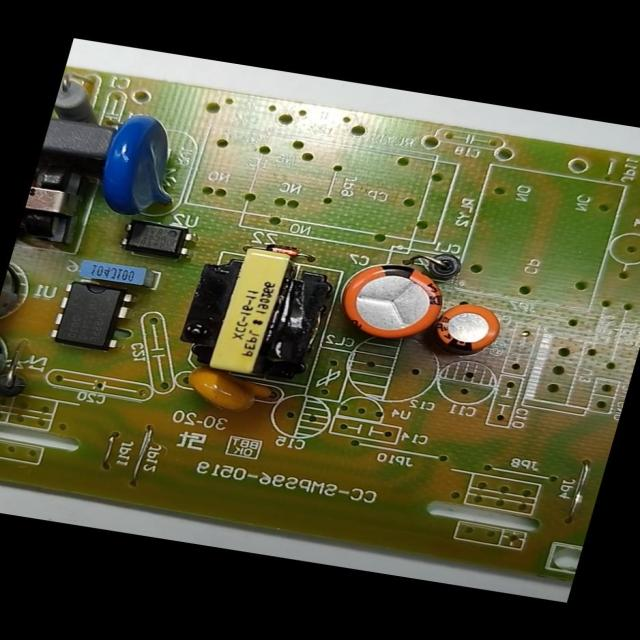Cap1: (327, 252, 456, 350)
Cap2: (421, 295, 512, 356)
Cap3: (0, 242, 51, 330)
Cap4: (0, 325, 20, 418)
MOSFET: (43, 274, 143, 352)
Mov: (85, 102, 192, 226)
Resistor: (51, 76, 109, 123)
Transformer: (167, 236, 344, 386), (14, 156, 103, 256)
